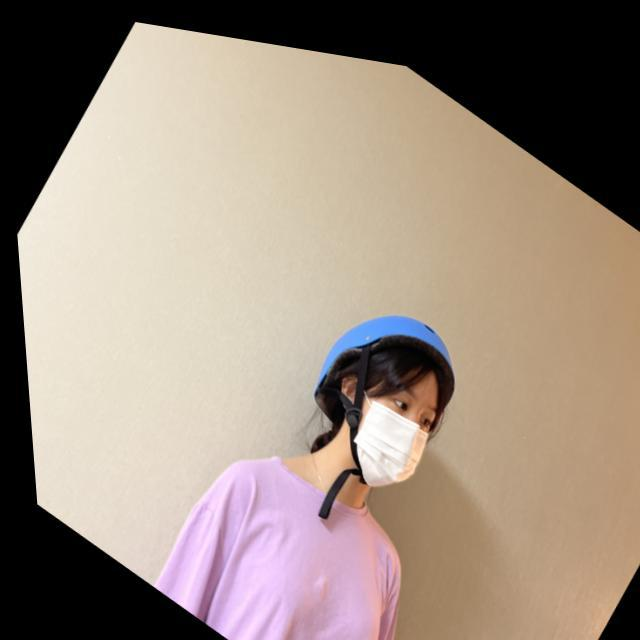Helmet: (304, 312, 458, 492)
